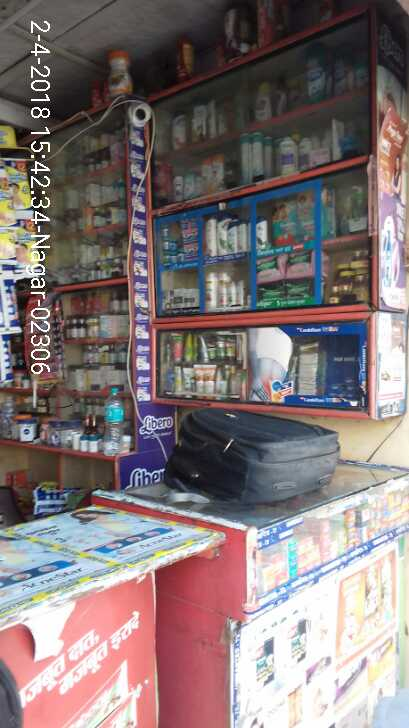vicks: (163, 216, 198, 264)
